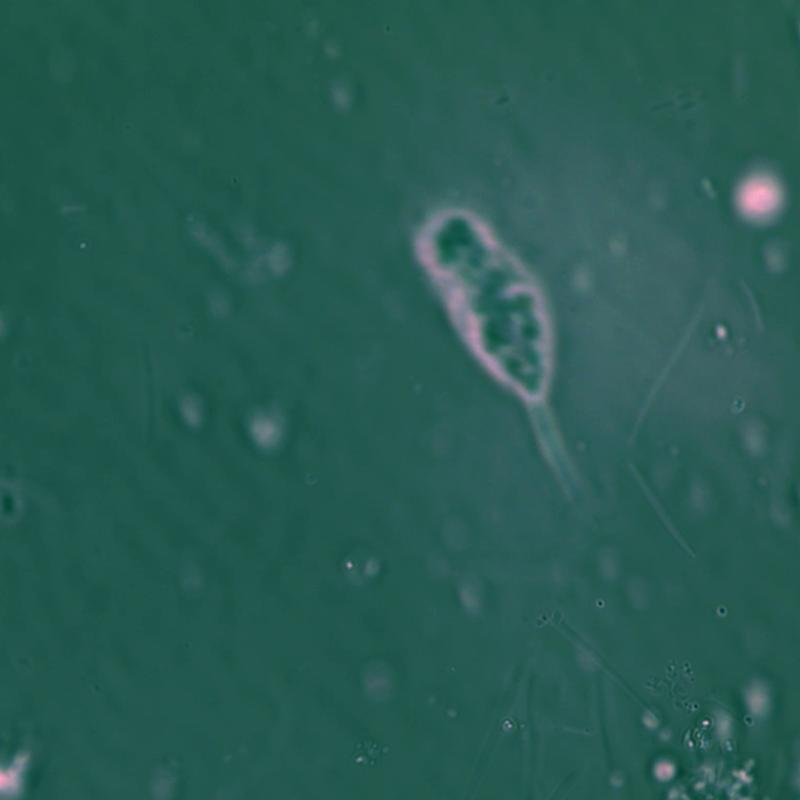depth:80: (396, 185, 615, 525)
